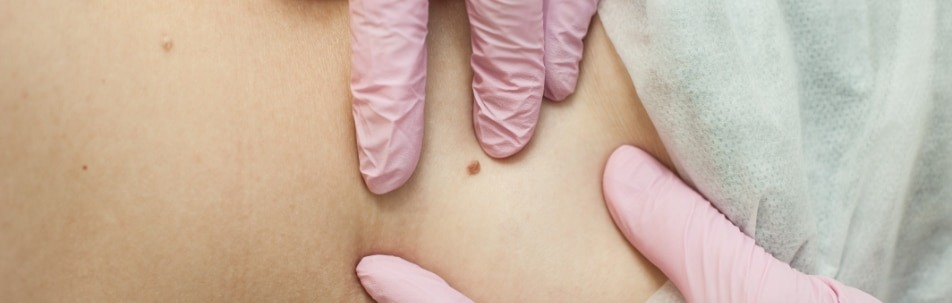Warts: (450, 146, 491, 188)
